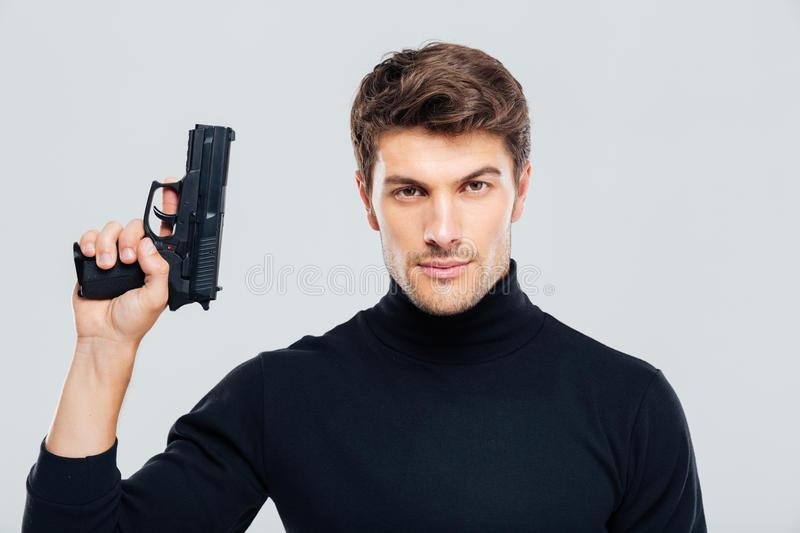criminal: (16, 39, 713, 533)
weapon: (69, 119, 243, 319)
